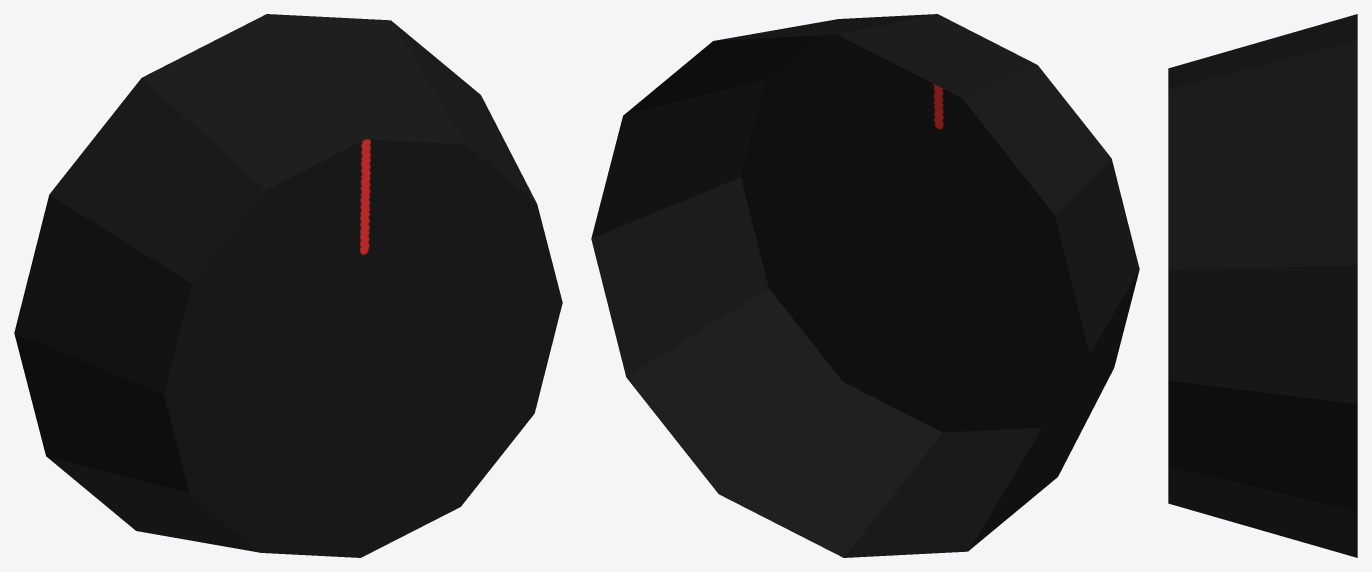
Rendered from wvr.obj.
3 views of the same model, side by side, from view 1: azimuth 30°, elevation 25°; view 2: azimuth 150°, elevation 25°; view 3: azimuth 270°, elevation 25° (orthographic). The views are drawn at different scales.
Parts seen in each view (by area): view 1: torus.001; view 2: torus.001; view 3: torus.001.
Part boxes in pixels (x1=…): torus.001: x1=14, y1=14, x2=562, y2=557; torus.001: x1=591, y1=14, x2=1139, y2=557; torus.001: x1=1168, y1=14, x2=1357, y2=557.
Bounding box in the file's own units: 0.3235 × 0.3235 × 0.1121.
